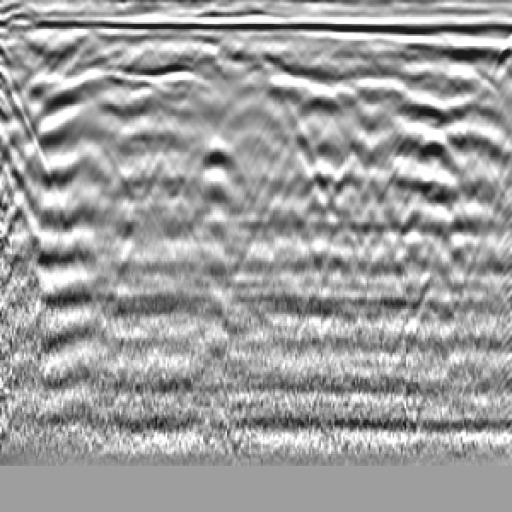metalic: (114, 41, 227, 117)
